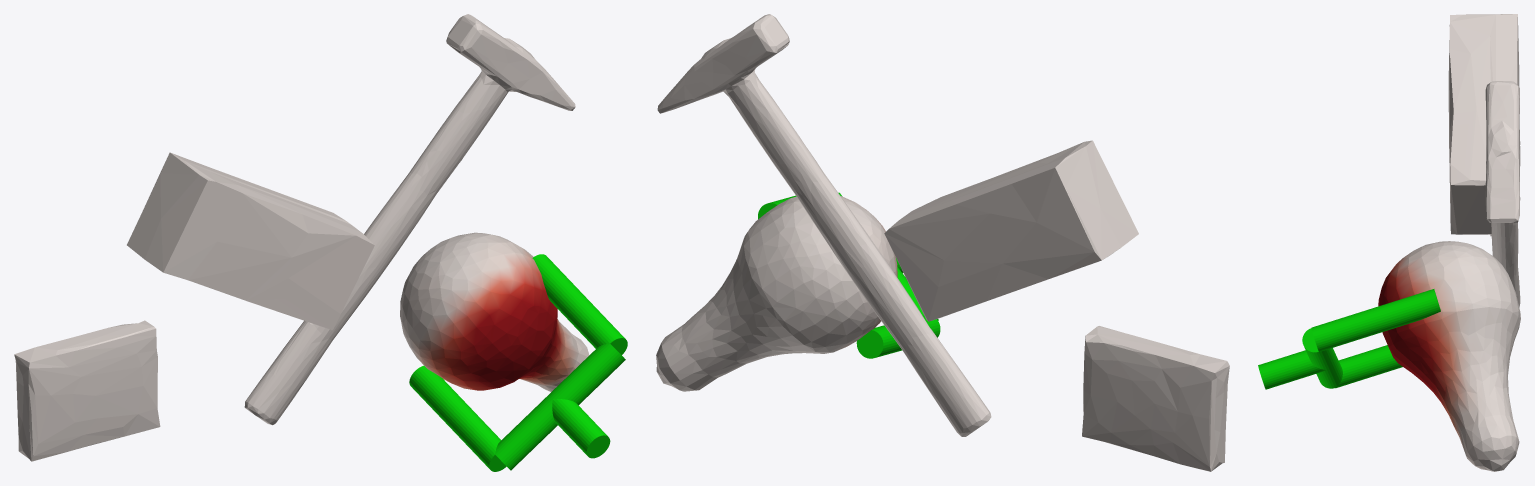
The model's file is round_000_trial_000.obj.
3 renders of one model, left to right at view 1: azimuth 30°, elevation 25°; view 2: azimuth 150°, elevation 25°; view 3: azimuth 270°, elevation 25°, orthographic. The views are drawn at different scales.
Visible parts, largest first — view 1: geometry_0, geometry_1; view 2: geometry_0, geometry_1; view 3: geometry_0, geometry_1.
Part boxes in pixels (bbox=[...]): geometry_0: bbox=[14, 14, 589, 461]; geometry_1: bbox=[409, 254, 627, 471]; geometry_0: bbox=[656, 14, 1229, 471]; geometry_1: bbox=[758, 192, 940, 358]; geometry_0: bbox=[1378, 14, 1520, 471]; geometry_1: bbox=[1258, 289, 1440, 389].
Size of the model in its own units: 0.2263 by 0.1502 by 0.102.
